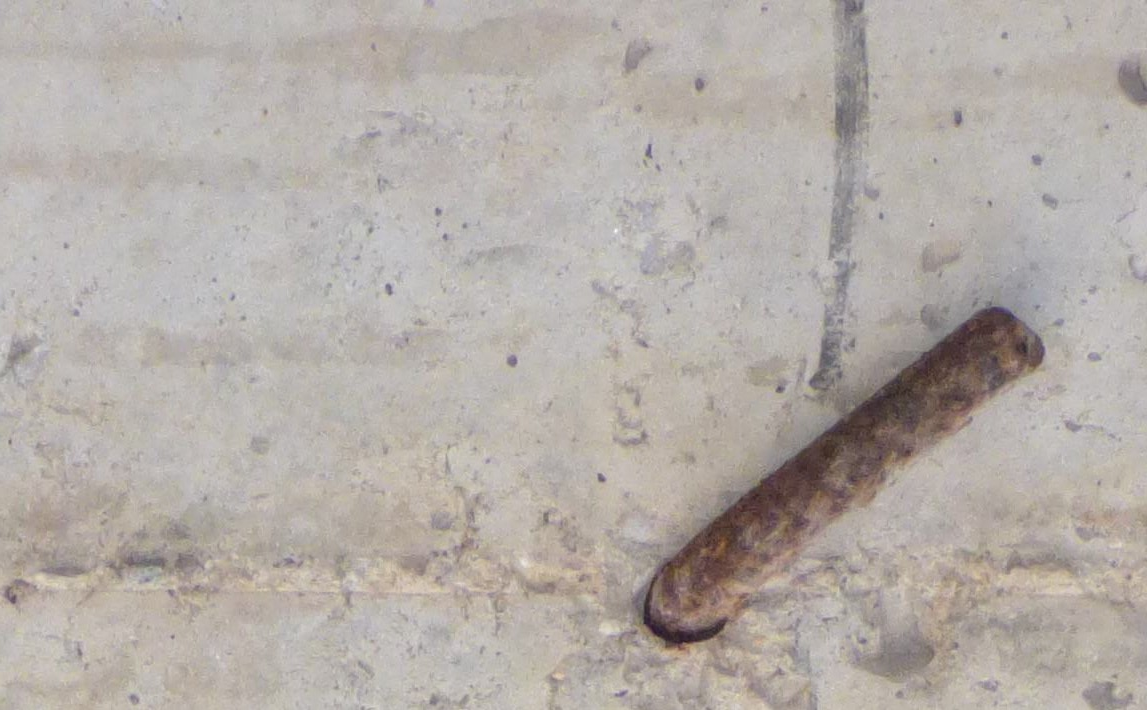Exposed reinforcement: (649, 305, 1046, 637)
